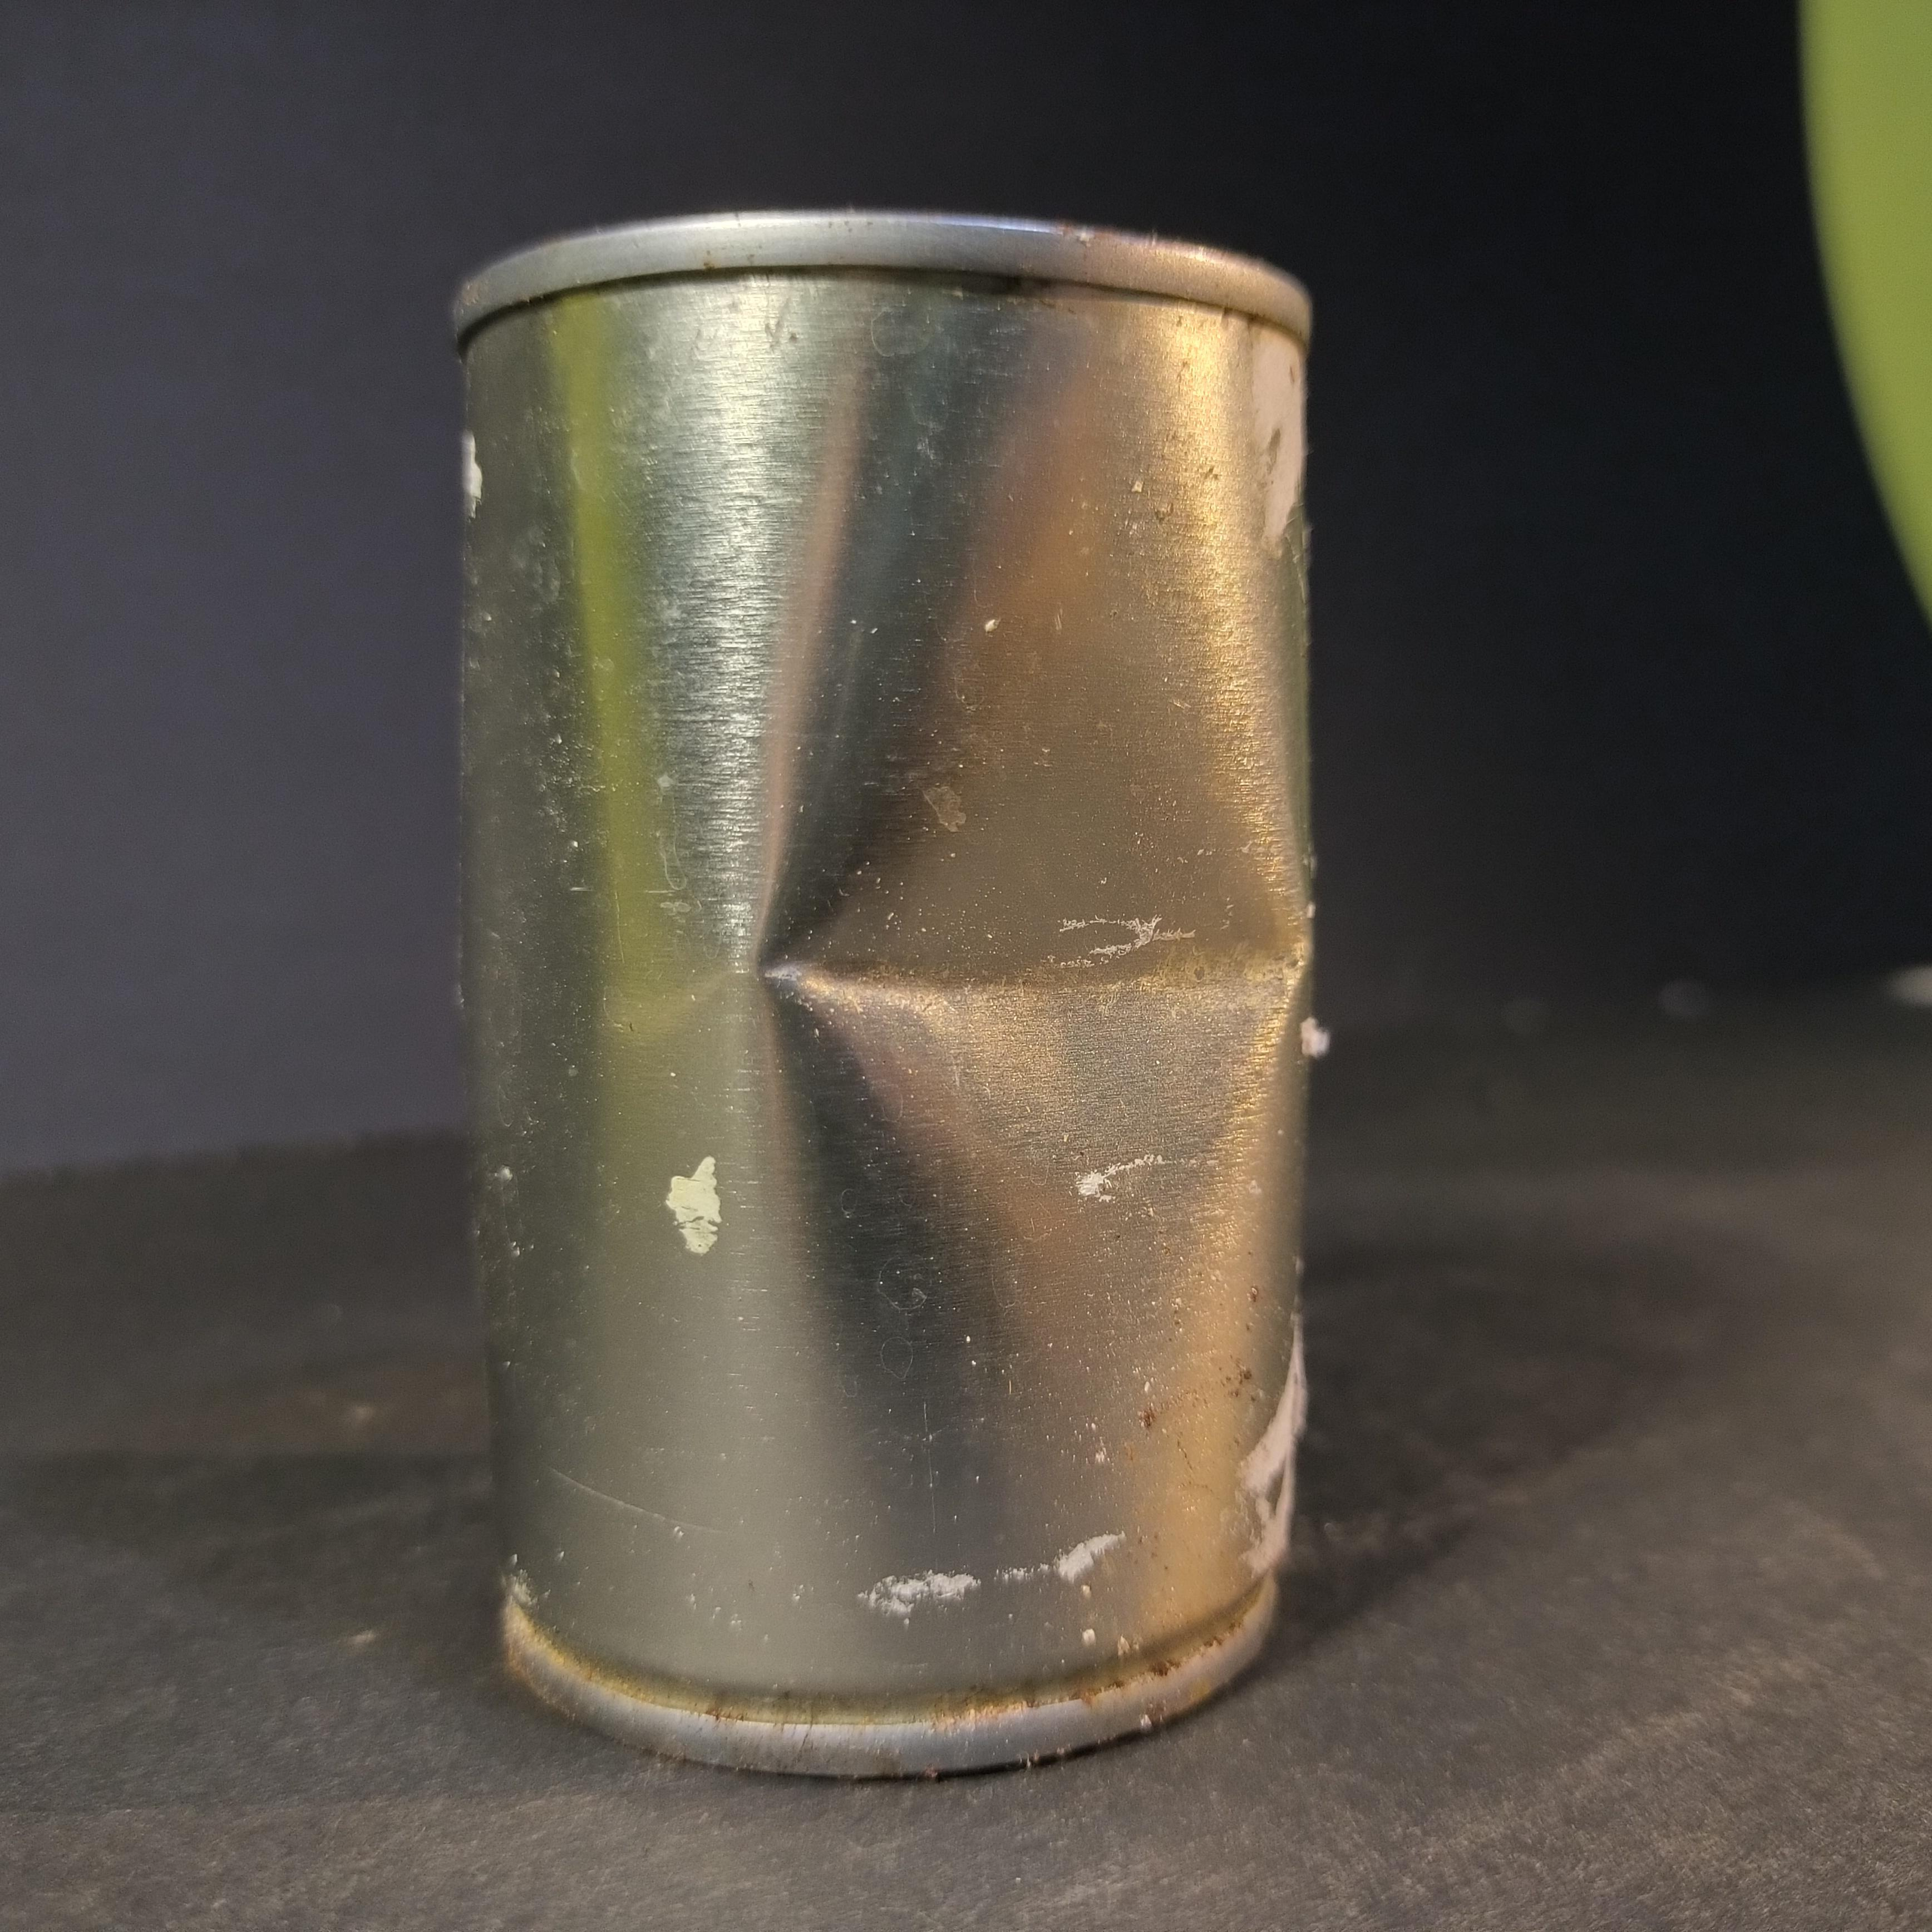Dented: (403, 175, 1371, 1798)
